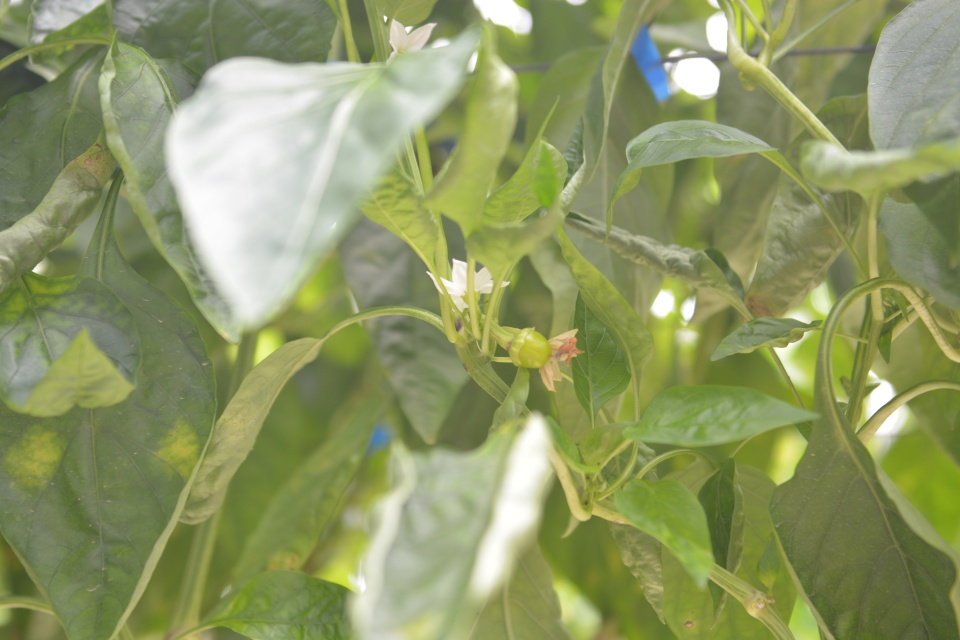flower: (424, 255, 512, 316), (384, 16, 439, 67)
